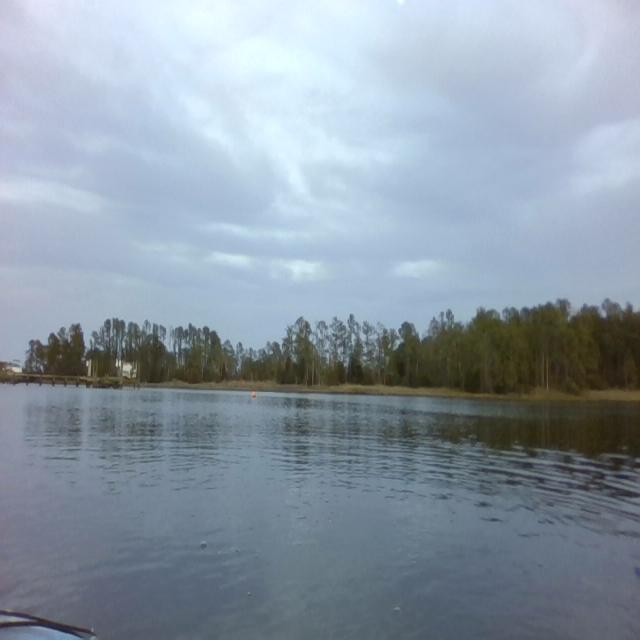Buoy: (252, 388, 257, 402)
